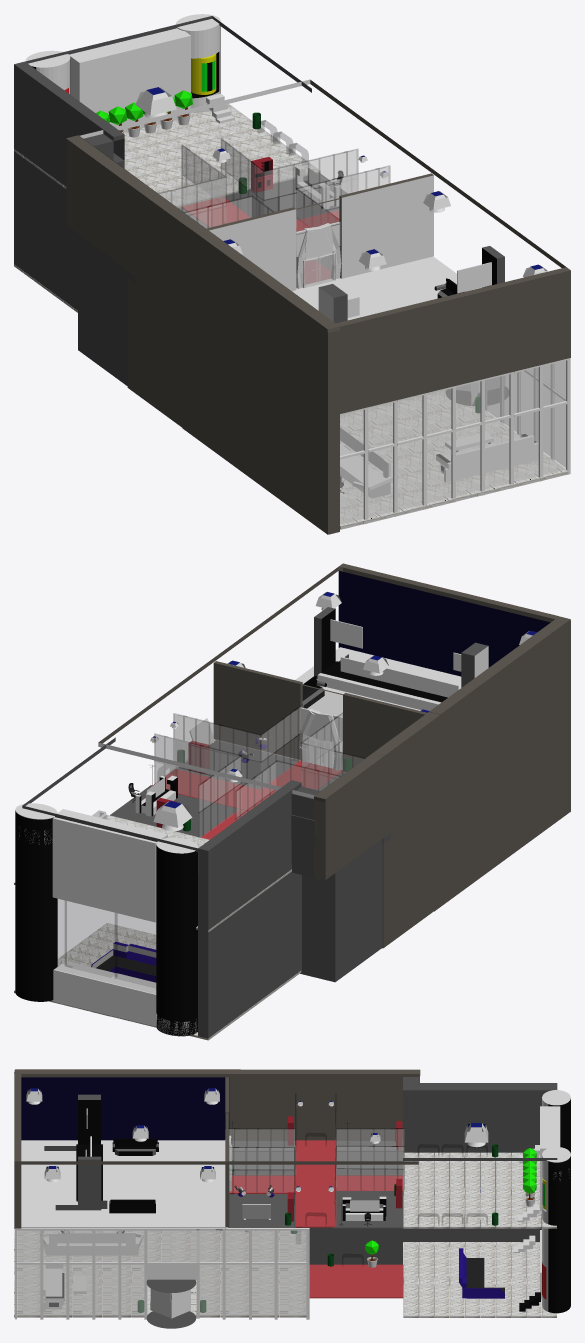
Rendered from utku office.fbx.
3 views of the same model, one above another, from view 1: azimuth 30°, elevation 25°; view 2: azimuth 150°, elevation 25°; view 3: azimuth 270°, elevation 25° (orthographic). The views are drawn at different scales.
Visible parts, largest first — view 1: Duvar.001, Cam, Duvar.005, Meremr, Mermer, Duvar, Duvar.002, Duvar.004, Ofis 2 cam, Duvar.003, Boss, Ofis1 cam (+15 smaller); view 2: Duvar.001, Duvar.005, Duvar, Duvar.004, Asansör boşluğu, Asansör Boşluğu, Boss Bilgisyaar, Duvar.002, Televizyon, Ofis1 cam, Ofis 2 cam, Televizyon Altlığı (+14 smaller); view 3: Duvar.001, Cam, Meremr, Boss, Duvar.005, Mermer, Mermer.001, Asansör Boşluğu, Boss Bilgisyaar, Hall2, Koridor, Duvar.004 (+21 smaller).
Part boxes in pixels (left/top/right/bottom): Duvar.001: left=66, top=79, right=570, bottom=534; Cam: left=340, top=257, right=570, bottom=524; Duvar.005: left=14, top=16, right=311, bottom=310; Meremr: left=340, top=390, right=568, bottom=529; Mermer: left=14, top=104, right=320, bottom=207; Duvar: left=69, top=28, right=190, bottom=132; Duvar.002: left=339, top=173, right=433, bottom=278; Duvar.004: left=78, top=234, right=135, bottom=385; Ofis 2 cam: left=221, top=138, right=358, bottom=216; Duvar.003: left=206, top=198, right=340, bottom=291; Boss: left=292, top=256, right=475, bottom=320; Ofis1 cam: left=296, top=165, right=390, bottom=278; Duvar.001: left=98, top=563, right=570, bottom=948; Duvar.005: left=22, top=737, right=320, bottom=1038; Duvar: left=52, top=809, right=167, bottom=922; Duvar.004: left=300, top=833, right=390, bottom=982; Asansör boşluğu: left=156, top=837, right=198, bottom=1036; Asansör Boşluğu: left=15, top=803, right=57, bottom=1001; Boss Bilgisyaar: left=314, top=607, right=488, bottom=710; Duvar.002: left=213, top=661, right=302, bottom=759; Televizyon: left=54, top=898, right=155, bottom=989; Ofis1 cam: left=173, top=705, right=302, bottom=785; Ofis 2 cam: left=154, top=733, right=241, bottom=837; Televizyon Altlığı: left=53, top=961, right=156, bottom=1026; Duvar.001: left=14, top=1069, right=420, bottom=1232; Cam: left=15, top=1228, right=309, bottom=1319; Meremr: left=14, top=1229, right=306, bottom=1317; Boss: left=21, top=1140, right=227, bottom=1228; Duvar.005: left=403, top=1077, right=557, bottom=1242; Mermer: left=403, top=1152, right=556, bottom=1228; Mermer.001: left=403, top=1242, right=556, bottom=1317; Asansör Boşluğu: left=542, top=1147, right=570, bottom=1313; Boss Bilgisyaar: left=44, top=1094, right=107, bottom=1210; Hall2: left=295, top=1140, right=336, bottom=1227; Koridor: left=309, top=1264, right=403, bottom=1298; Duvar.004: left=308, top=1227, right=402, bottom=1264.
Size of the model in its own units: 18020 by 12682 by 40199.
Materials: 49 (1 with a texture image).
